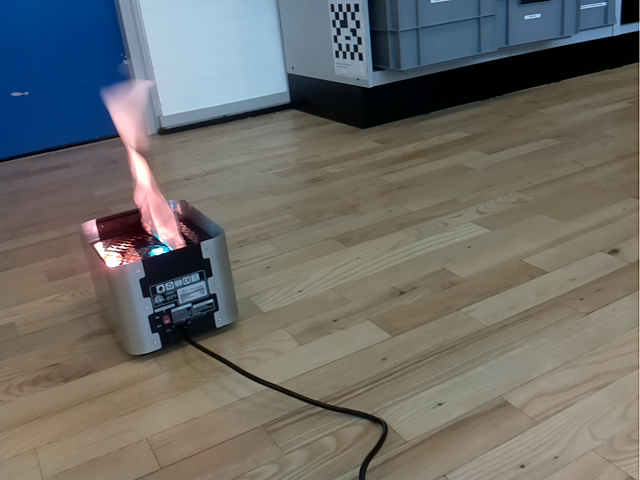fire: (99, 79, 187, 250)
